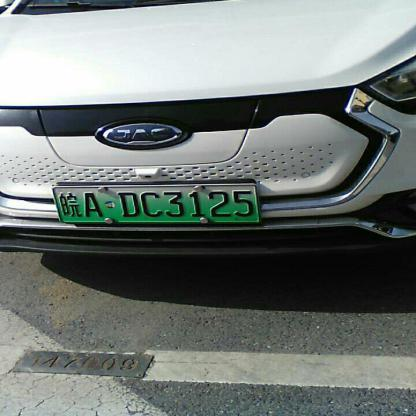lp: (53, 185, 62, 221)
